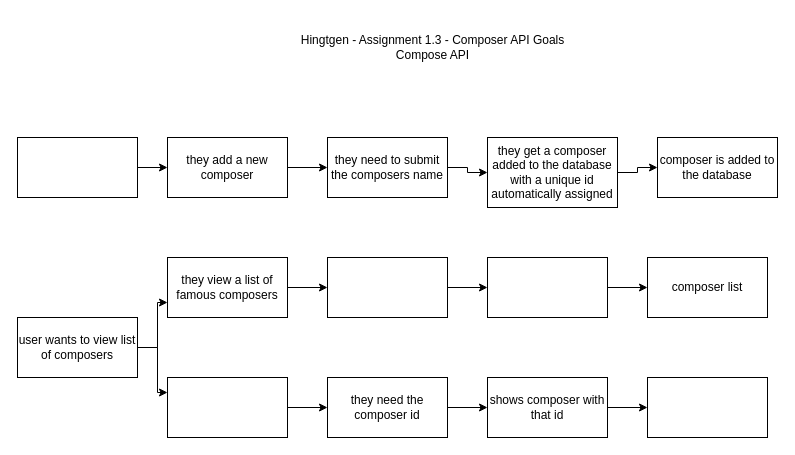
This 795x455 diagram has some shape labels left out. Here are the shapes that lost their labels. From the top down, the centre of each, then its label:
(x=77, y=167): user wants to manage list of composers
(x=387, y=287): they need nothing
(x=547, y=287): they get to see a list of composers on the database
(x=227, y=407): they view a composer by their id
(x=707, y=407): a single composer based on id
